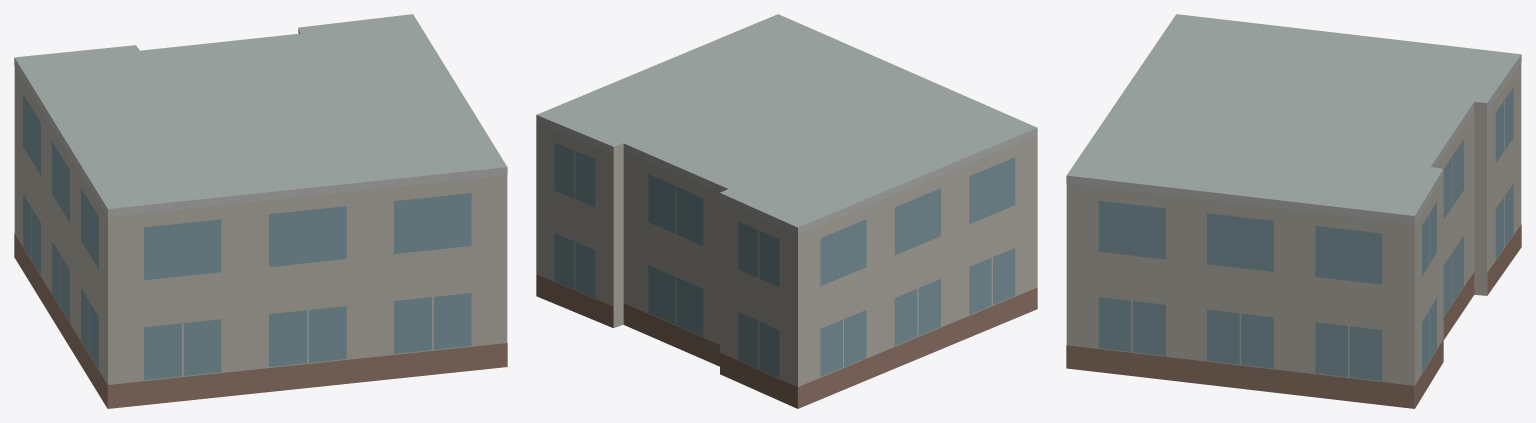
Rendered from survey-upis-32933721.glb.
The picture shows the model from 3 angles, left to right: view 1: azimuth 30°, elevation 25°; view 2: azimuth 150°, elevation 25°; view 3: azimuth 270°, elevation 25°; orthographic projection. The views are drawn at different scales.
Visible parts, largest first — view 1: survey-upis-32933721.tmp; view 2: survey-upis-32933721.tmp; view 3: survey-upis-32933721.tmp.
Part boxes in pixels (x1,y1,x2,y2): survey-upis-32933721.tmp: (14,14,507,408); survey-upis-32933721.tmp: (536,14,1037,408); survey-upis-32933721.tmp: (1066,14,1521,408).
Bounding box in the file's own units: 13.71 × 6.1 × 13.05.
